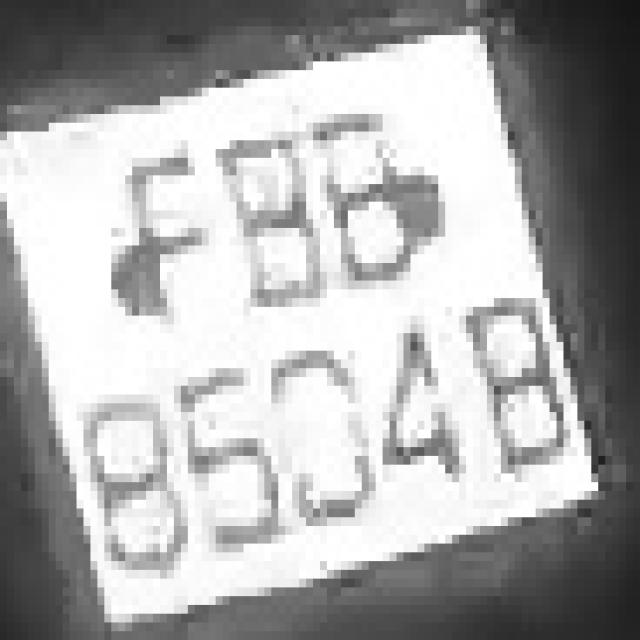0: (271, 342, 383, 543)
4: (376, 324, 480, 535)
5: (167, 342, 292, 579)
8: (83, 368, 188, 588)
B: (195, 106, 327, 360), (452, 272, 578, 491), (320, 79, 431, 324)
F: (111, 96, 223, 360)
